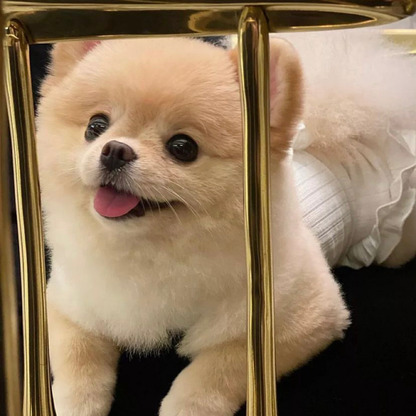Pomeranian: (37, 29, 363, 391)
